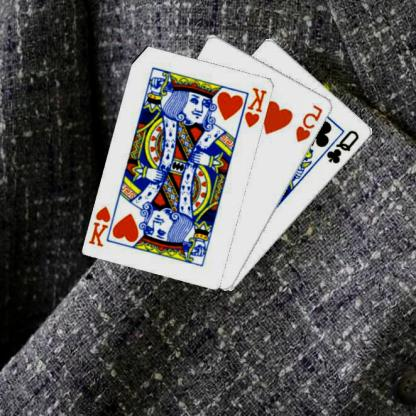5H: (295, 102, 326, 143)
KH: (244, 84, 270, 129), (88, 203, 114, 248)
QC: (326, 127, 362, 165)
